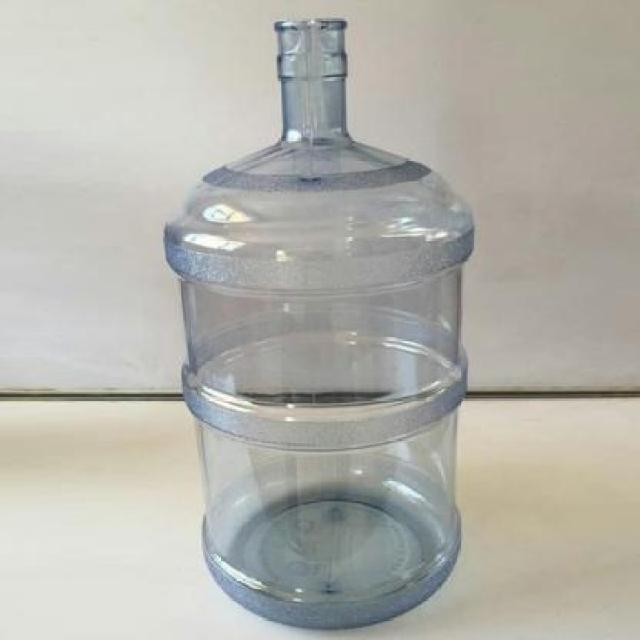coolerbottle: (143, 12, 486, 638)
